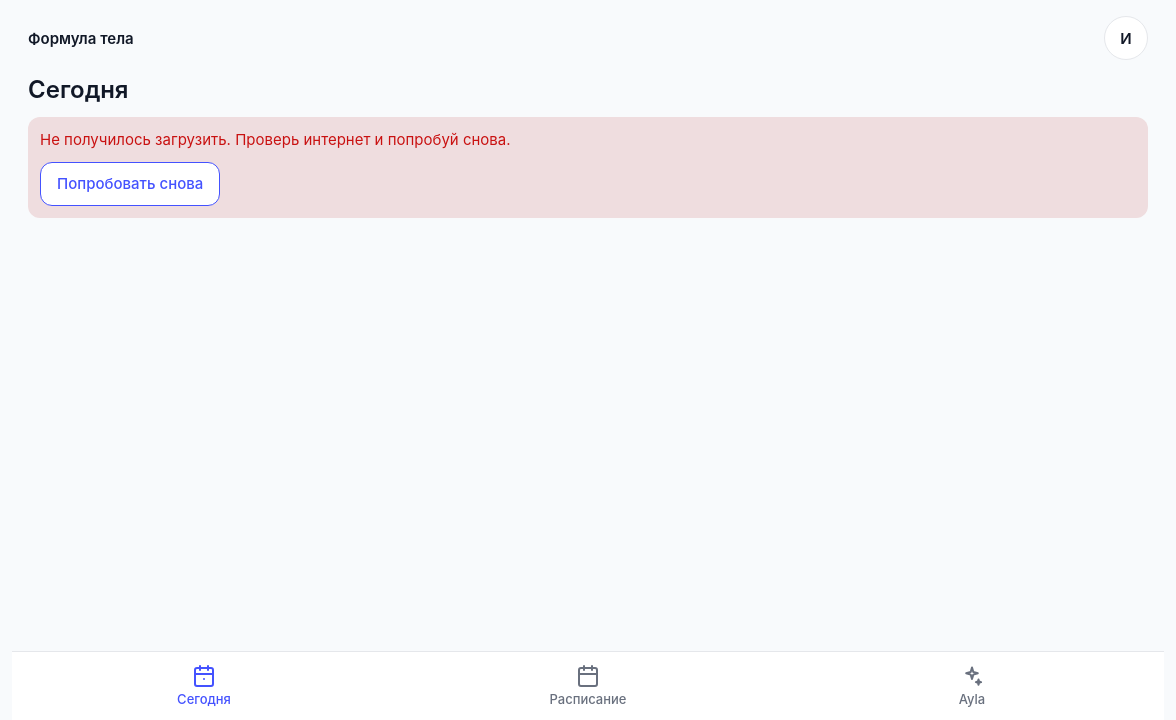
Test case: что построено с макета › не отвечающая ручка даёт общий StateError с повтором
Expected: the message "Не получилось загрузить. Проверь интернет и попробуй снова. Попробовать снова" is shown, [28,117,1148,218]
Click the button "Попробовать снова": {"x": 130, "y": 184} [40,162,220,206]
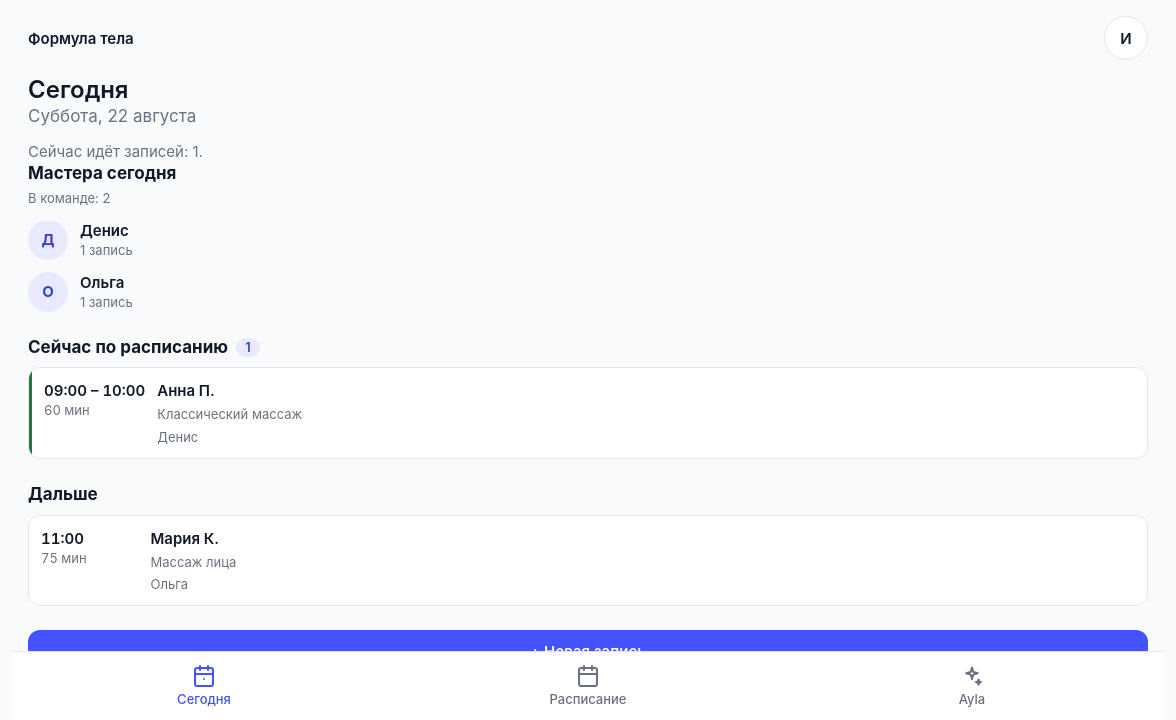
Expected: the text "Анна П." is shown, [157,381,215,400]
